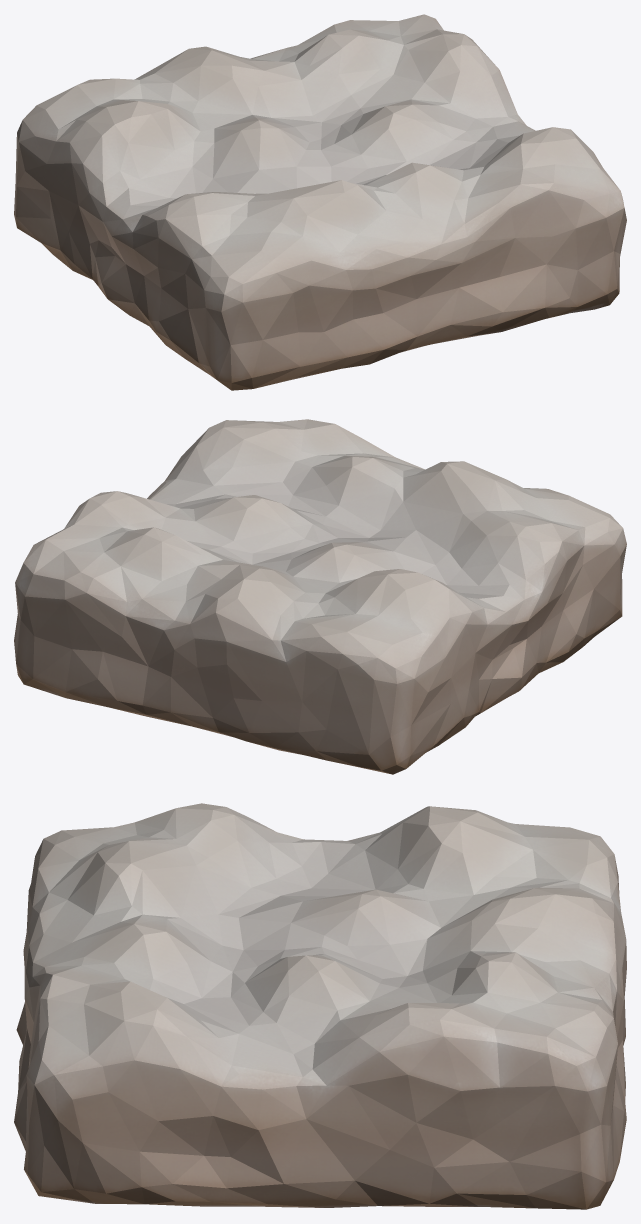
File: snow_tile_source.glb
3 views of the same model, one above another, from view 1: azimuth 30°, elevation 25°; view 2: azimuth 150°, elevation 25°; view 3: azimuth 270°, elevation 25° (orthographic). The views are drawn at different scales.
Visible parts, largest first — view 1: world; view 2: world; view 3: world.
Boxes of the visible parts, left/top/right/bottom form: world: left=14, top=14, right=626, bottom=390; world: left=14, top=419, right=626, bottom=774; world: left=14, top=803, right=626, bottom=1209.
Size of the model in its own units: 1 by 0.3465 by 0.9962.
1 material, 1 textured.
